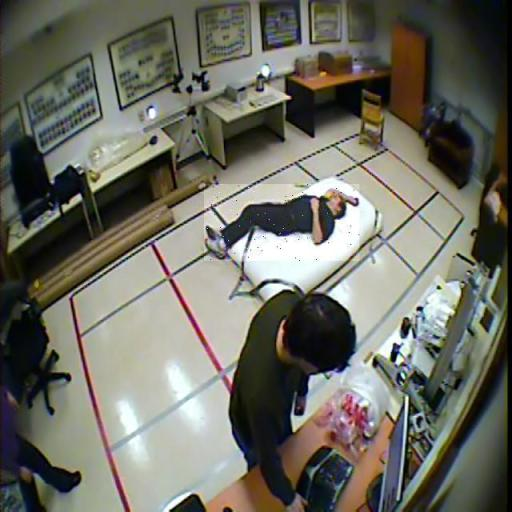Fall: (204, 185, 359, 262)
